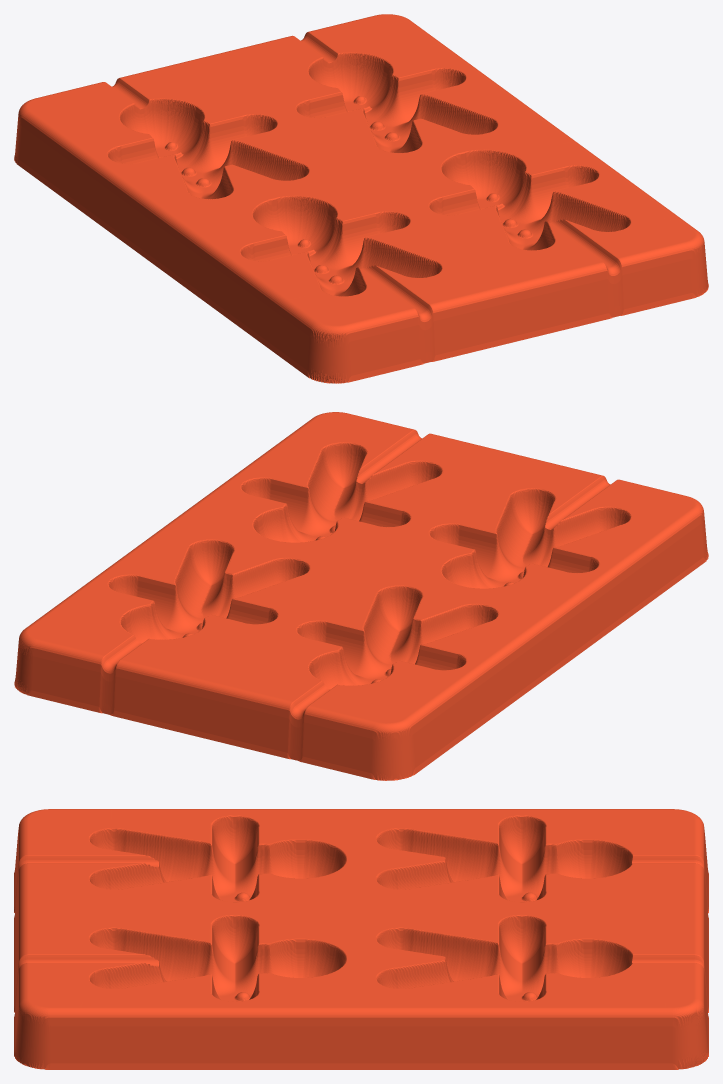
File: mold.glb
3 renders of one model, top to bottom at view 1: azimuth 30°, elevation 25°; view 2: azimuth 150°, elevation 25°; view 3: azimuth 270°, elevation 25°, orthographic. The views are drawn at different scales.
Parts seen in each view (by area): view 1: geometry_0; view 2: geometry_0; view 3: geometry_0.
Boxes of the visible parts, <box> form: geometry_0: <box>14,14,708,383</box>; geometry_0: <box>14,412,708,780</box>; geometry_0: <box>14,809,708,1069</box>.
Size of the model in its own units: 0.1238 by 0.0155 by 0.1735.
